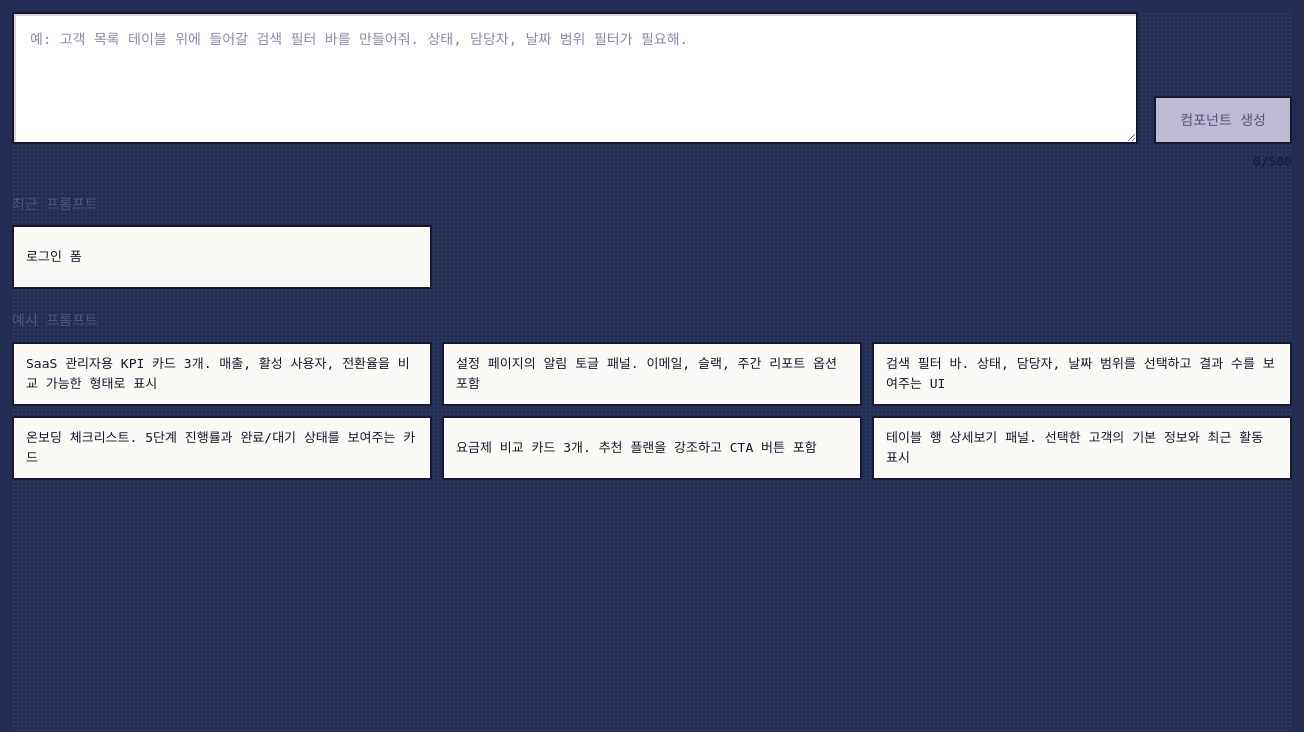
PromptInput › 히스토리 항목을 클릭하면 입력창에 채워진다
The width and height of the screenshot is (1304, 732).
Click the button "로그인 폼". click: (54, 257)
box: [12,225,432,289]
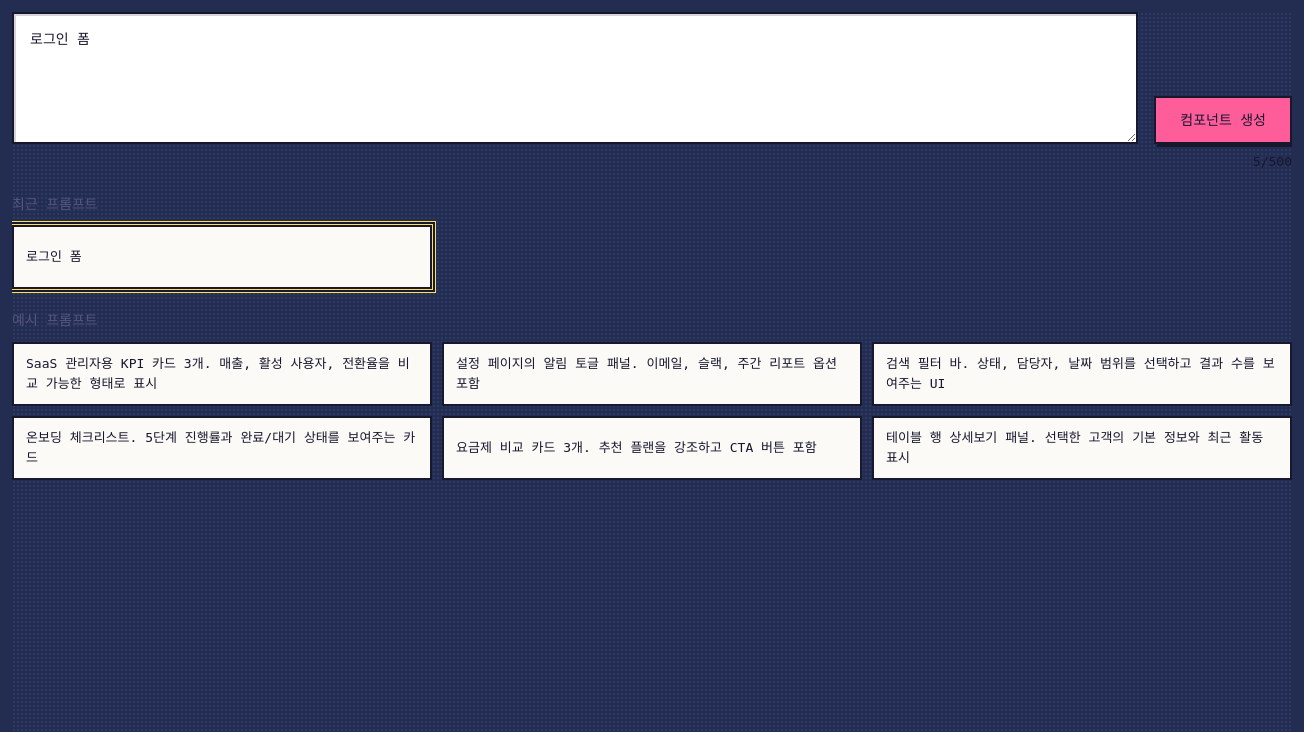
Now the text box holds "로그인 폼", box [12,12,1138,144]
